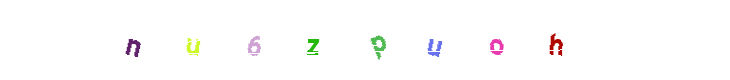6: (274, 0, 354, 80)
H: (515, 0, 595, 80)
N: (93, 0, 173, 80)
O: (442, 0, 522, 80)
P: (325, 0, 405, 80)
U: (154, 0, 234, 80), (394, 0, 474, 80)
Z: (311, 0, 391, 80)
